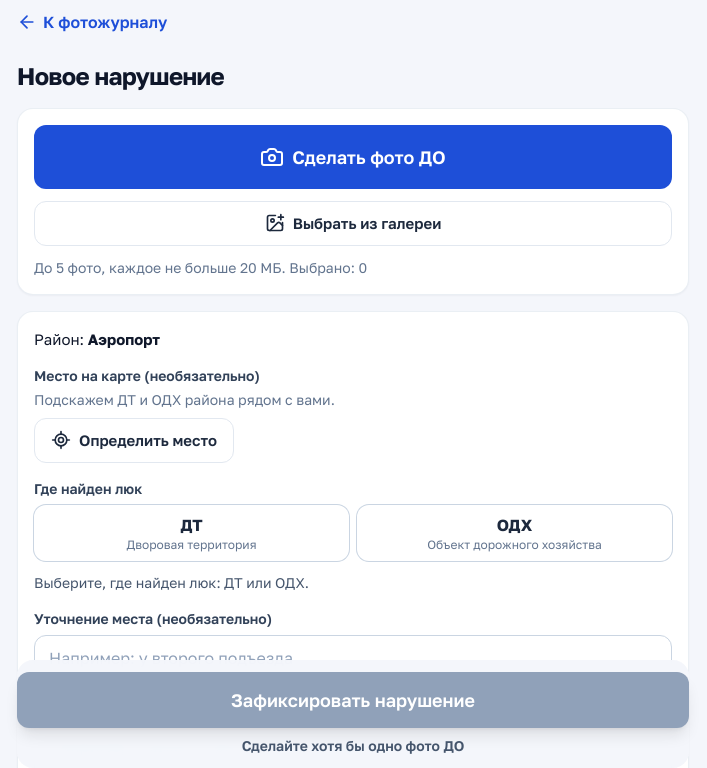
NewCardPage › «Определить место» подсказывает объекты рядом и сам выбирает тип
Click the button "Определить место" at (134, 440), box left=34, top=418, right=234, bottom=462
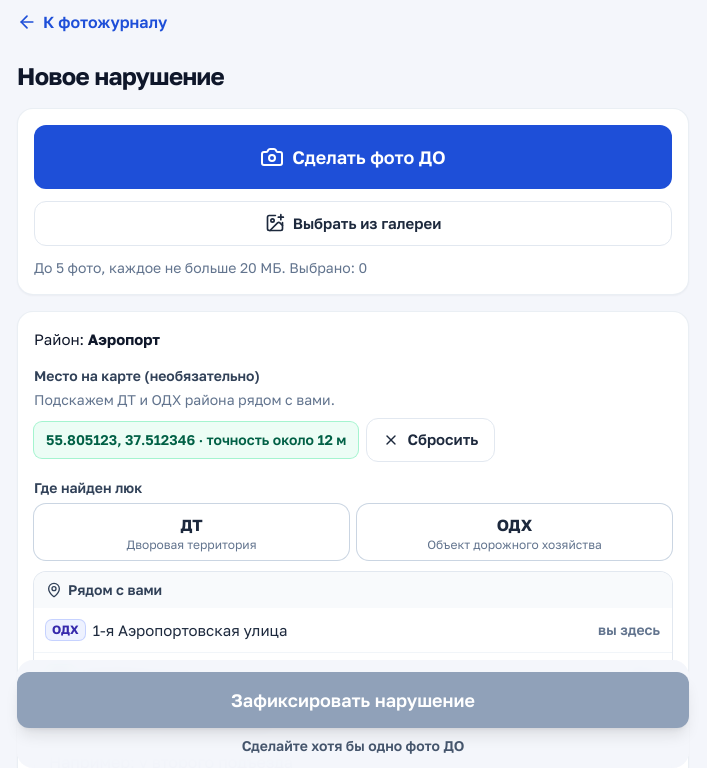
Click the button "ОДХ 1-я Аэропортовская улица вы здесь" at (65, 630), box left=34, top=608, right=672, bottom=652
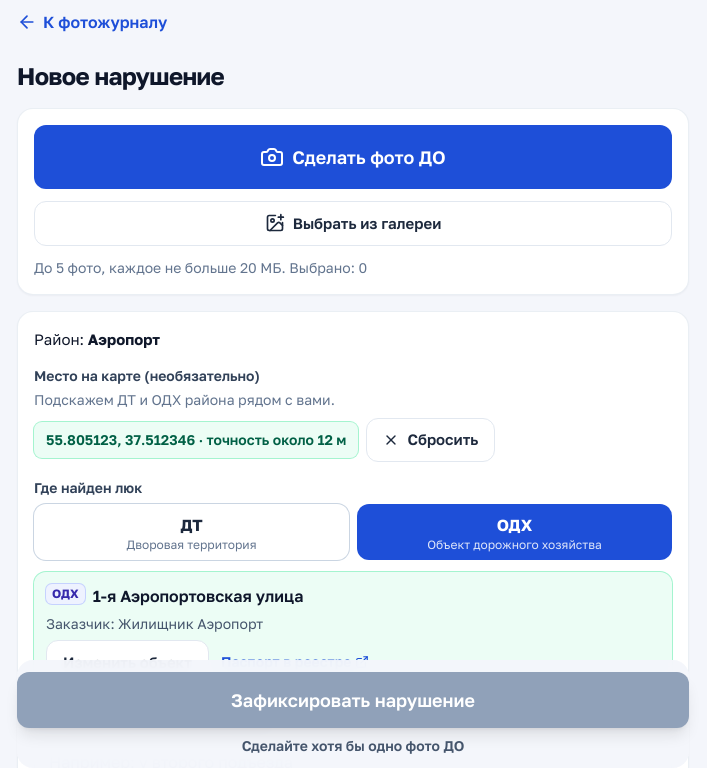
Result: the element with test id "picked-territory" shows "Заказчик: Жилищник Аэропорт" at left=34, top=572, right=672, bottom=696
